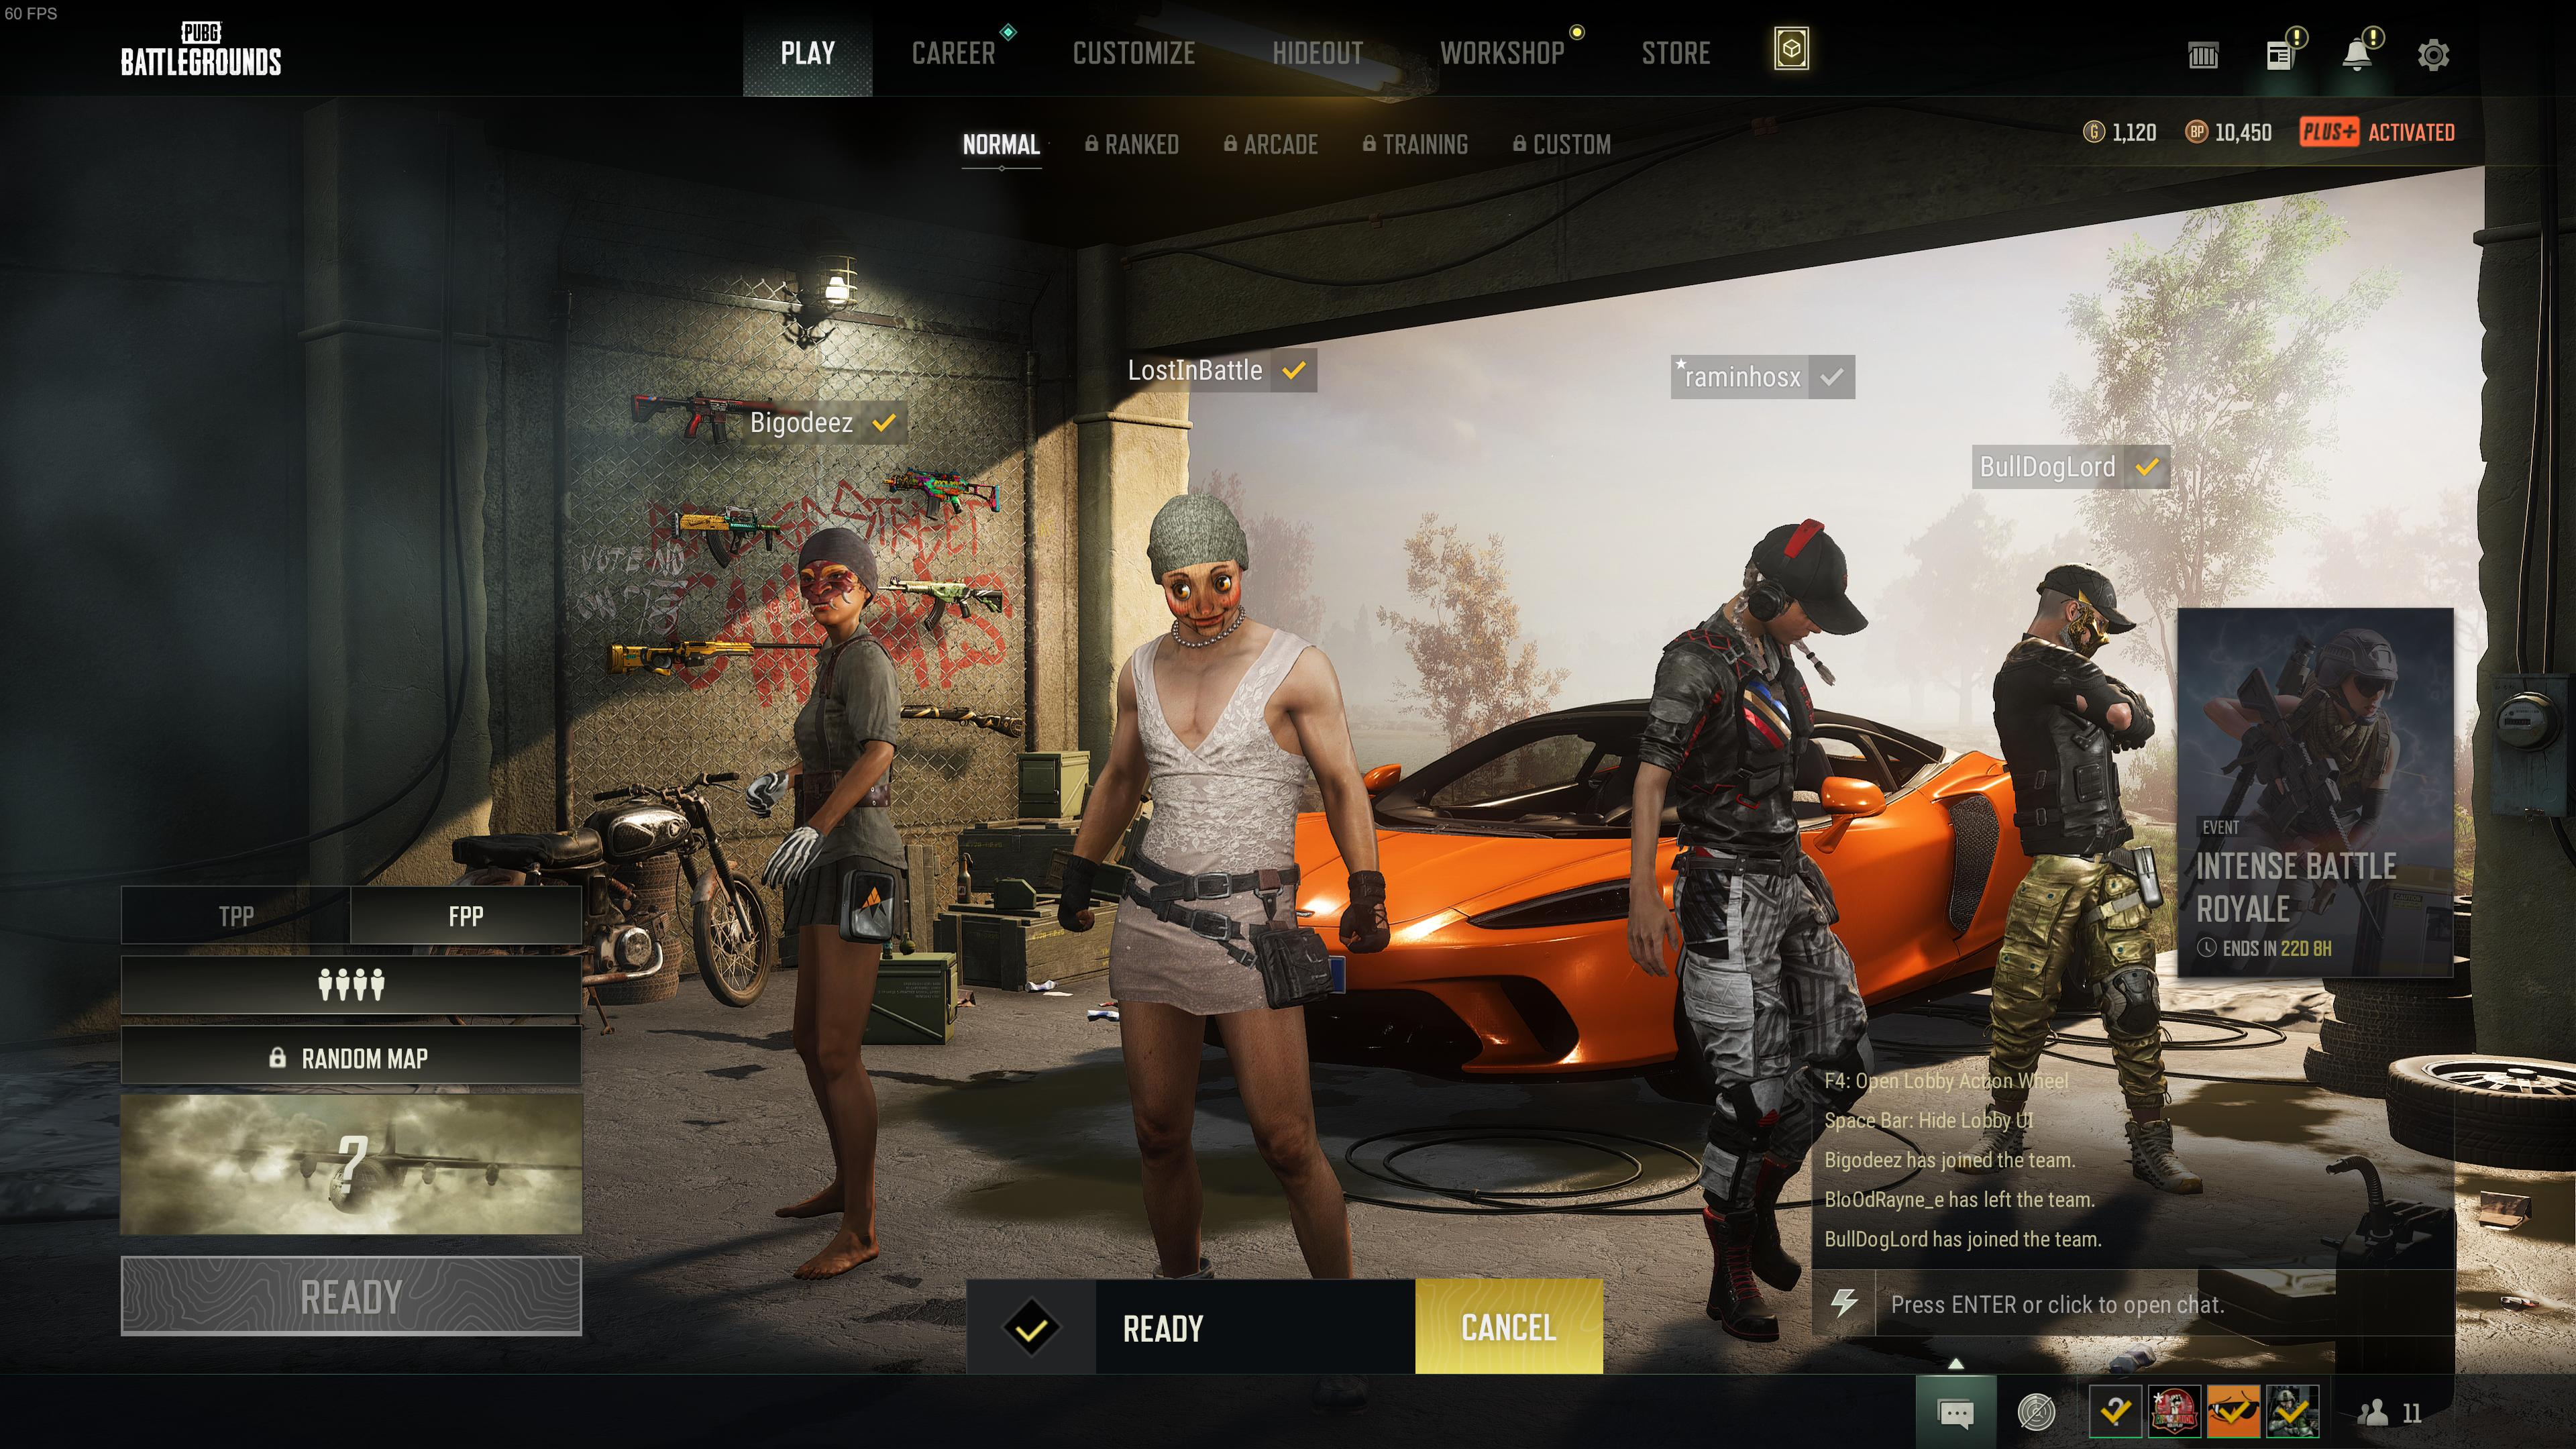enemy: (1042, 494, 1398, 1313), (1624, 515, 1872, 1343), (1957, 561, 2204, 1196), (743, 527, 904, 1279), (2204, 633, 2401, 816)
enemy_head: (1743, 517, 1867, 653), (1146, 494, 1249, 644), (2035, 563, 2137, 656), (796, 527, 879, 635), (2311, 630, 2397, 727)
